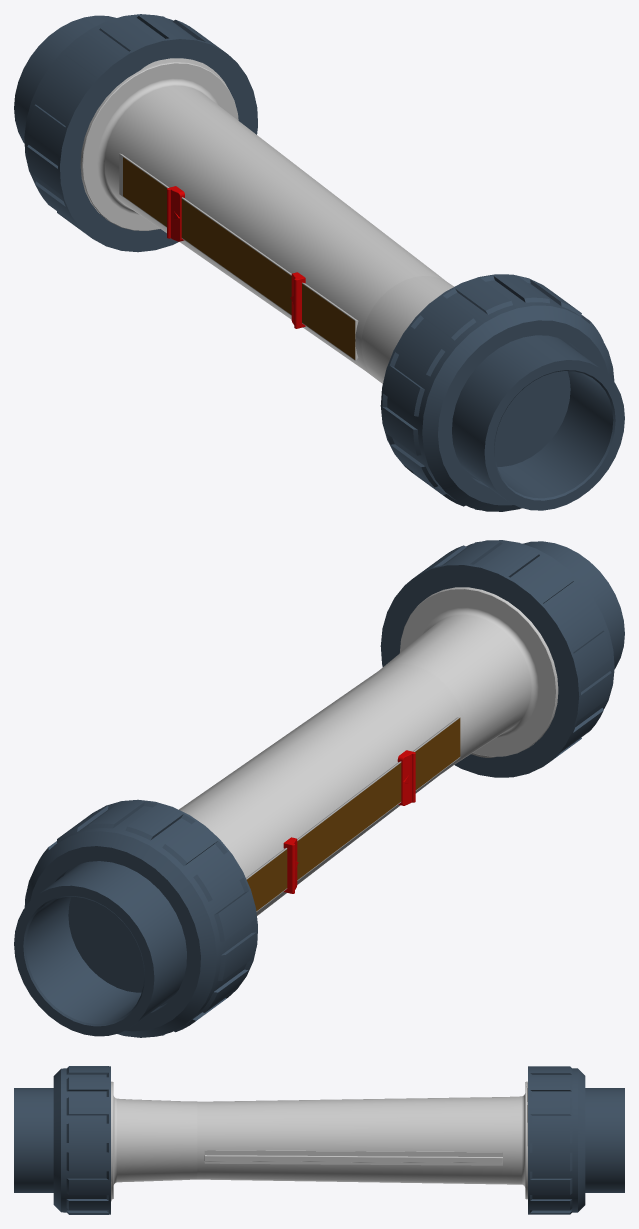
Rendered from rotametr.glb.
3 renders of one model, top to bottom at view 1: azimuth 30°, elevation 25°; view 2: azimuth 150°, elevation 25°; view 3: azimuth 270°, elevation 25°, orthographic. The views are drawn at different scales.
Visible parts, largest first — view 1: RM400-200I-PVC_R0; view 2: RM400-200I-PVC_R0; view 3: RM400-200I-PVC_R0.
Boxes of the visible parts, box(x1,y1,x2,y2) form: RM400-200I-PVC_R0: box(14, 14, 624, 511); RM400-200I-PVC_R0: box(14, 540, 624, 1037); RM400-200I-PVC_R0: box(14, 1066, 624, 1214).
Bounding box in the file's own units: 0.1013 × 0.1013 × 0.4163.
